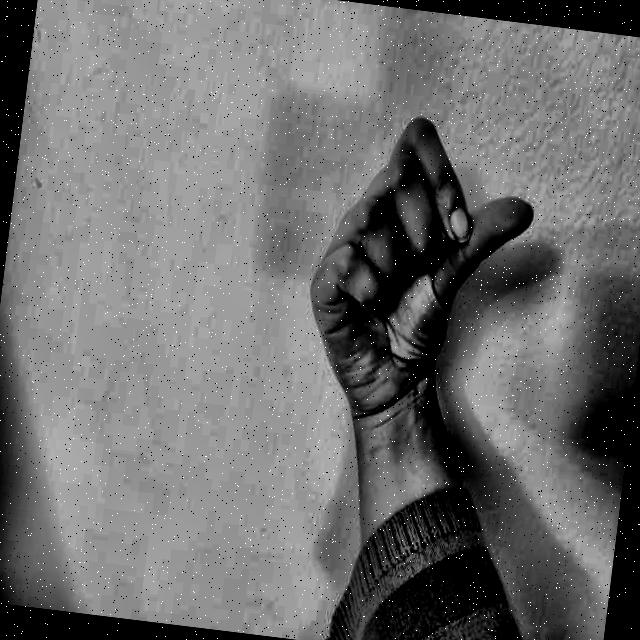Ay: (260, 74, 568, 448)
